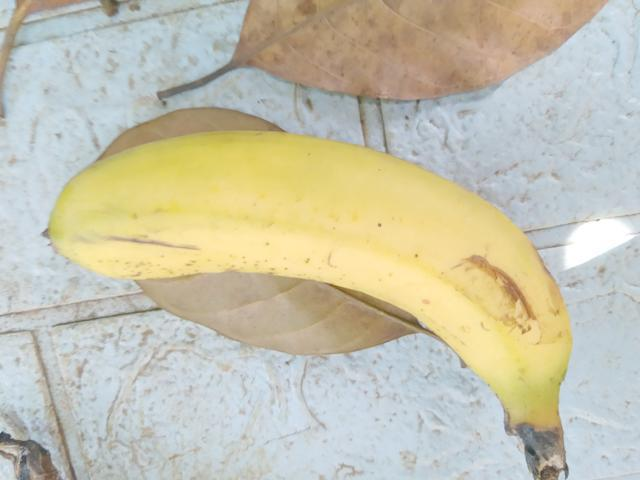ripe: (48, 105, 598, 473)
